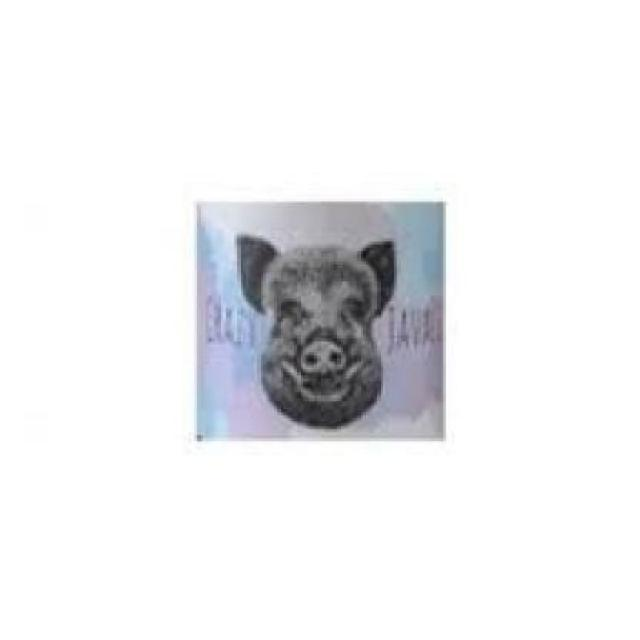wildboar: (230, 224, 410, 433)
